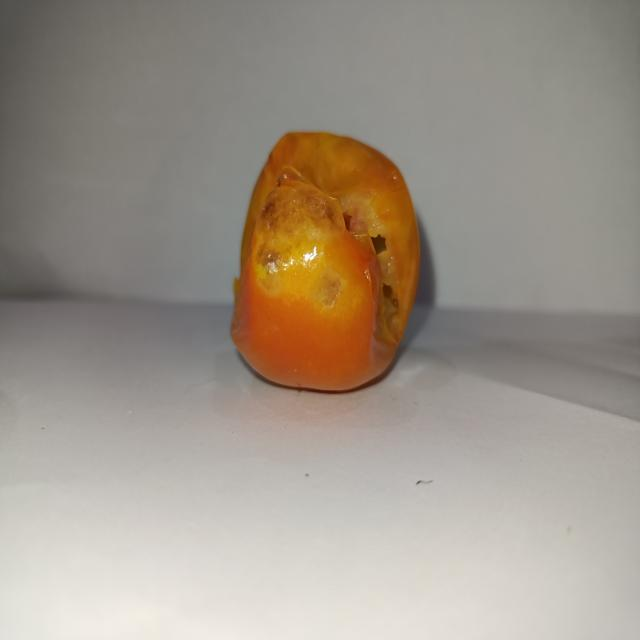Red: (229, 129, 421, 393)
